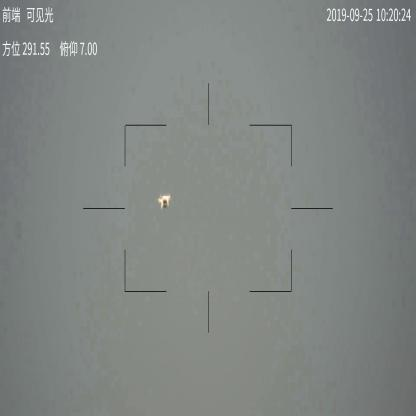uav: (154, 190, 173, 211)
